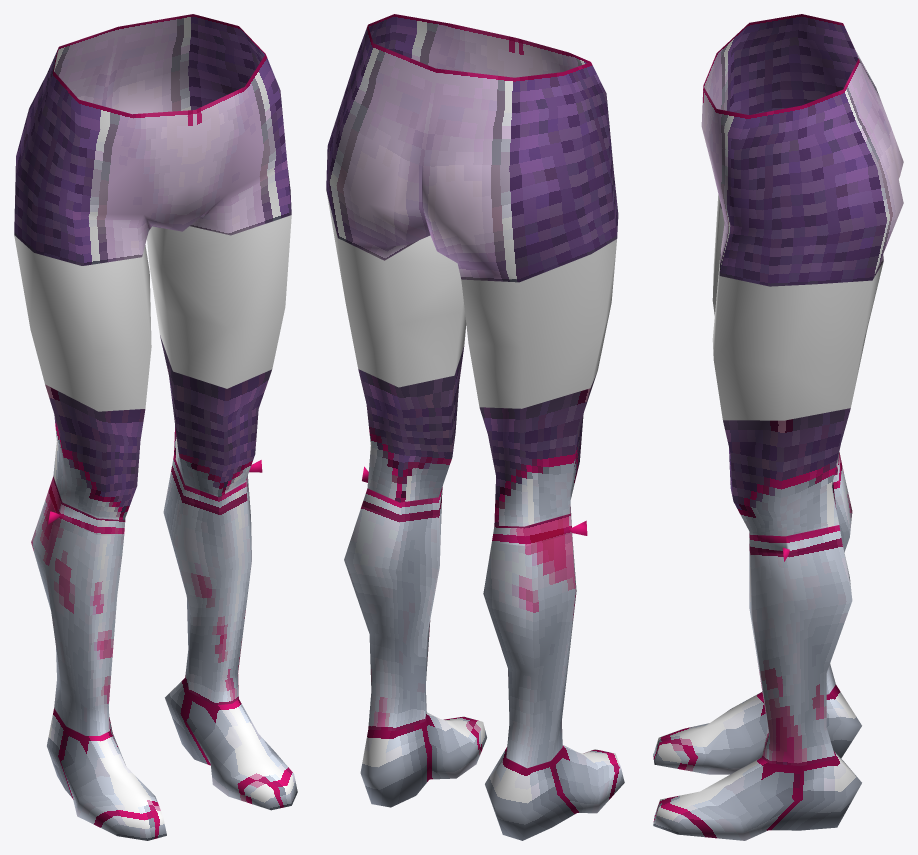
Rendered from f_reg038.glb.
3 renders of one model, left to right at view 1: azimuth 30°, elevation 25°; view 2: azimuth 150°, elevation 25°; view 3: azimuth 270°, elevation 25°, orthographic. The views are drawn at different scales.
Bounding box in the file's own units: 40.71 × 110 × 33.96.
Materials: 2 (1 with a texture image).
